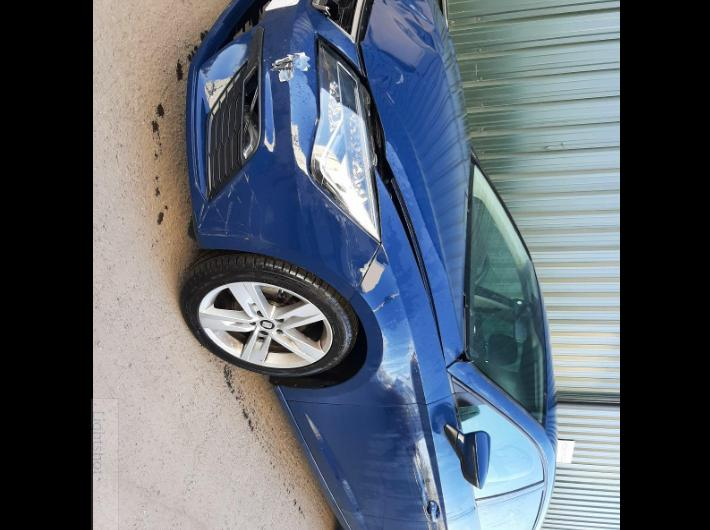Broken part: (353, 0, 471, 370), (310, 0, 364, 44)
Cracked: (242, 67, 257, 160)
Dent: (297, 176, 378, 290), (359, 0, 444, 104)
Missing part: (201, 0, 274, 58)
Paint chip: (269, 51, 311, 82), (262, 54, 272, 64), (282, 37, 286, 43)
Scratch: (192, 168, 258, 232), (324, 194, 358, 291), (198, 218, 285, 248), (372, 291, 399, 311)
